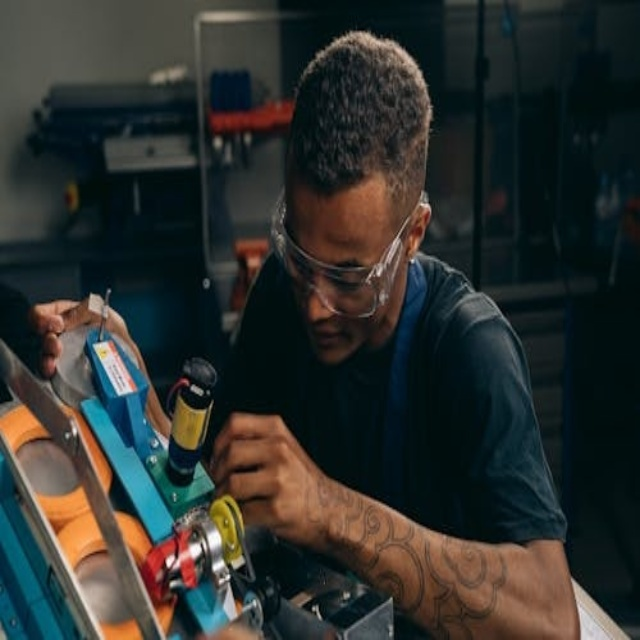Gafas: (272, 186, 422, 320)
Sin_guantes: (207, 412, 327, 545), (23, 295, 95, 379)
Sin_mascara: (297, 315, 360, 363)
